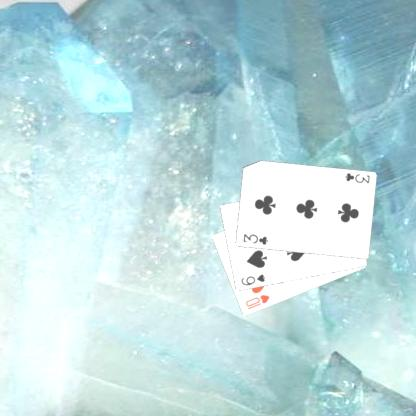10H: (243, 292, 271, 311)
3C: (240, 231, 269, 246), (342, 170, 371, 184)
6S: (238, 272, 267, 287)
